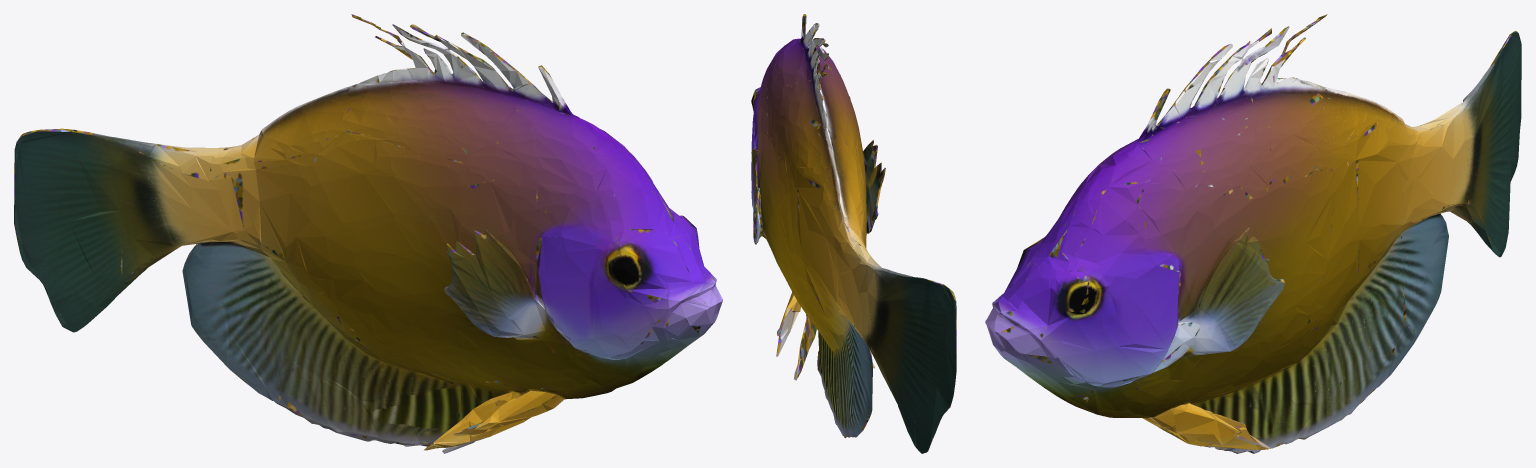
Rendered from fish_0128_smpl23_resized.glb.
The picture shows the model from 3 angles, left to right: view 1: azimuth 30°, elevation 25°; view 2: azimuth 150°, elevation 25°; view 3: azimuth 270°, elevation 25°; orthographic projection. The views are drawn at different scales.
Visible parts, largest first — view 1: world; view 2: world; view 3: world.
Part boxes in pixels (<box>): world: <box>14,14,722,453</box>; world: <box>751,14,956,453</box>; world: <box>985,14,1521,453</box>.
Size of the model in its own units: 1.96 by 1.73 by 1.99.
1 material, 1 textured.
